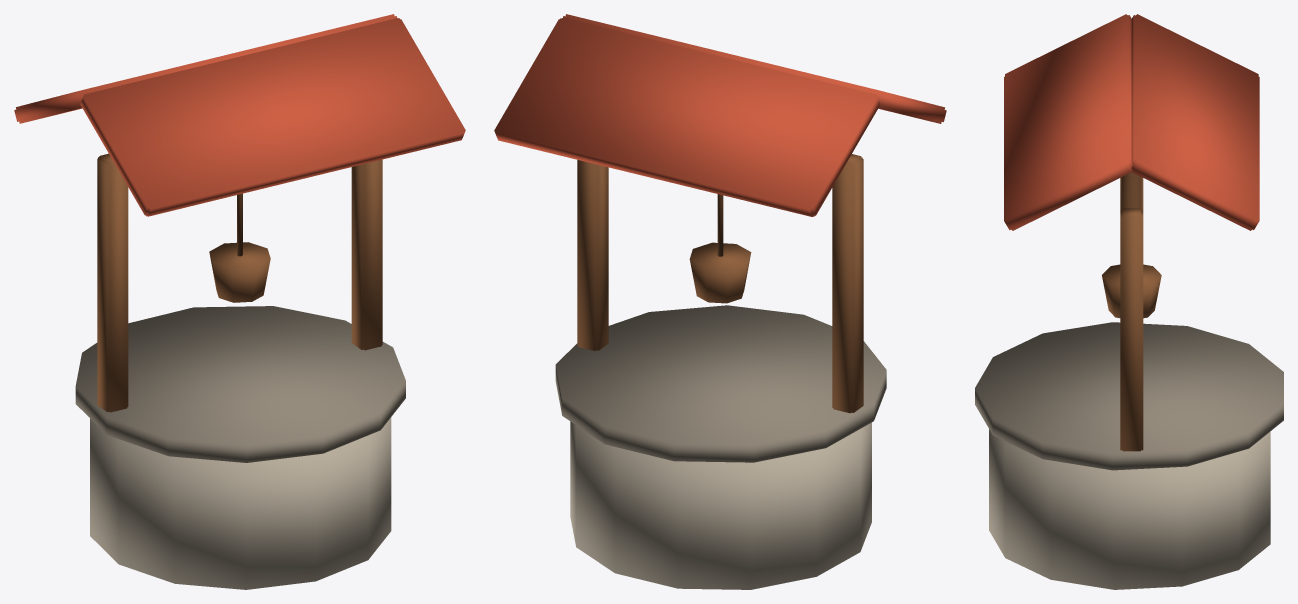
File: poco.glb
The picture shows the model from 3 angles, left to right: view 1: azimuth 30°, elevation 25°; view 2: azimuth 150°, elevation 25°; view 3: azimuth 270°, elevation 25°; orthographic projection. The views are drawn at different scales.
Visible parts, largest first — view 1: Poco; view 2: Poco; view 3: Poco.
Part boxes in pixels (x1,y1,x2,y2): Poco: [14, 14, 465, 589]; Poco: [494, 14, 946, 589]; Poco: [975, 14, 1283, 589].
Bounding box in the file's own units: 1.5 × 2.12 × 1.34.
